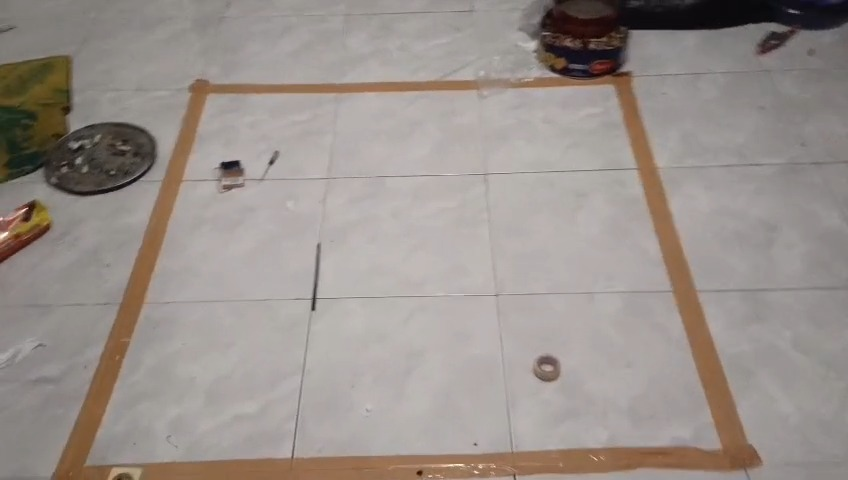floor marking: (127, 72, 762, 479), (55, 79, 477, 479)
